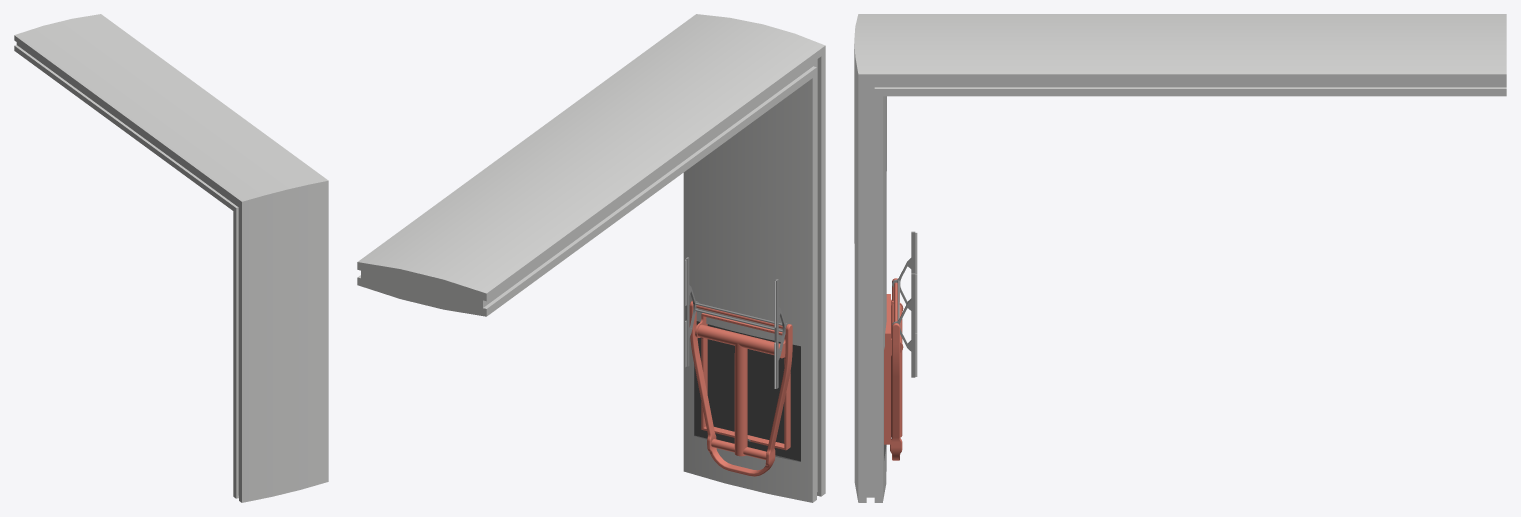
File: pantograph.glb
3 renders of one model, left to right at view 1: azimuth 30°, elevation 25°; view 2: azimuth 150°, elevation 25°; view 3: azimuth 270°, elevation 25°, orthographic. The views are drawn at different scales.
Parts seen in each view (by area): view 1: Pantograph v1; view 2: Pantograph v1; view 3: Pantograph v1.
Boxes of the visible parts, x1=… form: Pantograph v1: x1=14, y1=14, x2=328, y2=502; Pantograph v1: x1=357, y1=14, x2=825, y2=502; Pantograph v1: x1=854, y1=14, x2=1506, y2=502.
Bounding box in the file's own units: 3.5 × 11.7 × 16.
